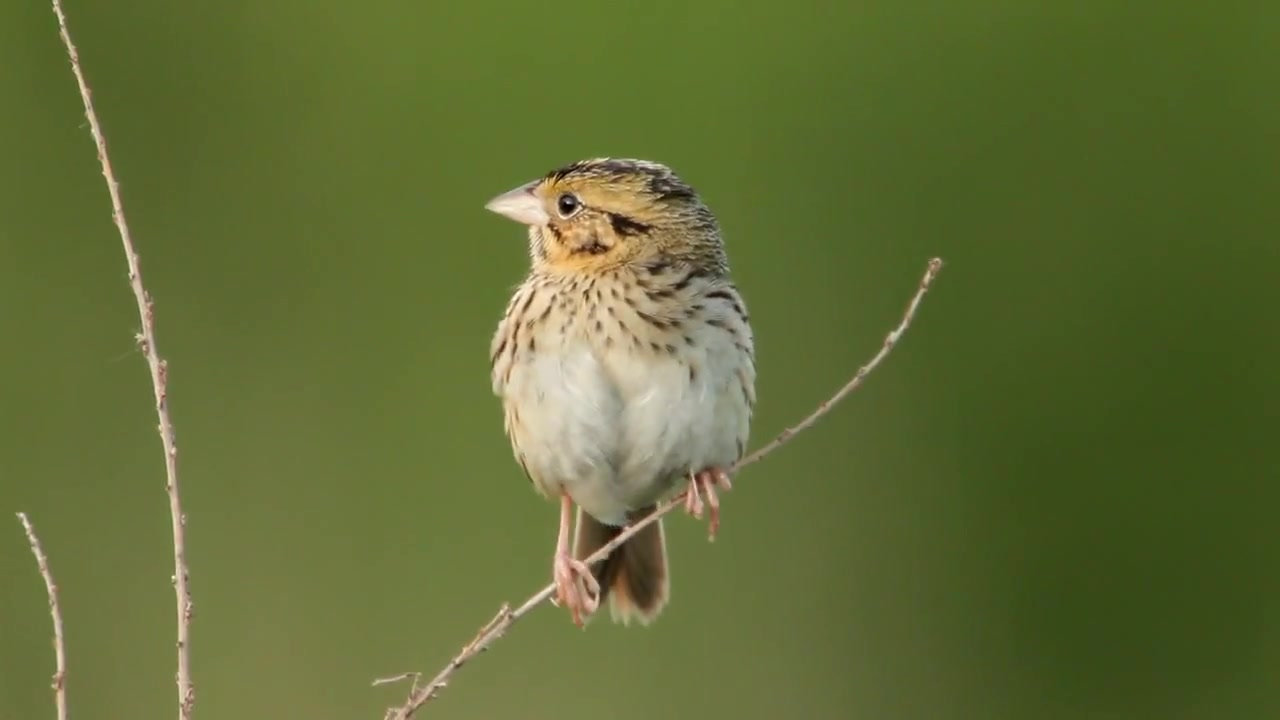bird: (483, 156, 761, 630)
